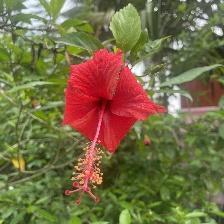hibiscus: (59, 47, 170, 212)
